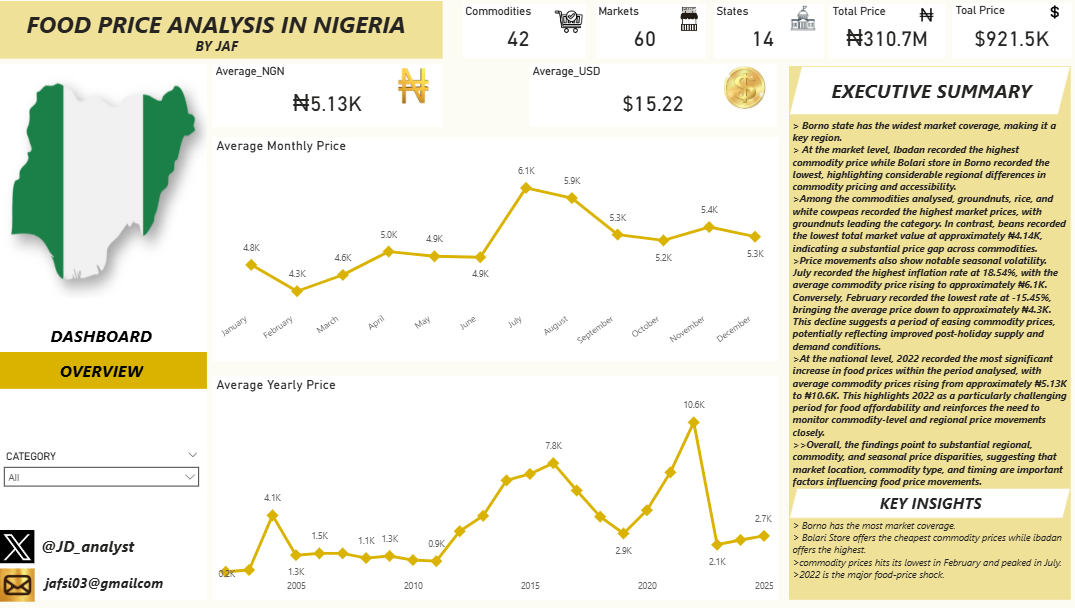

The page's visual inventory and layout, read from the dashboard file:
{"tool":"powerbi","page":{"name":"Overview","canvas":[1500,850],"ordinal":1},"visuals":[{"type":"shape","box":[0,96.4,292.2,742.5],"z":0},{"type":"card","title":"Average_NGN","fields":{"Values":["wfp_food_prices_nga (1).Avg_NGN"]},"box":[299.7,96.4,319.3,87.3],"z":1000},{"type":"card","title":"Average_USD","fields":{"Values":["wfp_food_prices_nga (1).Avg_USD"]},"box":[738,96.4,343.4,87.3],"z":2000},{"type":"slicer","fields":{"Values":["wfp_food_prices_nga (1).CATEGORY"]},"box":[0,625.7,292.1,74.8],"z":3000},{"type":"actionButton","box":[0,446.8,292.2,51.2],"z":4000},{"type":"actionButton","box":[0,495,292.2,51.2],"z":5000},{"type":"shape","box":[1097.9,99.4,390.1,739.5],"z":6000},{"type":"lineChart","title":"Average Monthly Price ","fields":{"Category":["wfp_food_prices_nga (1).Date.Variation.Date Hierarchy.Month"],"Y":["wfp_food_prices_nga (1).Avg_NGN"]},"box":[299.7,197.3,783.1,310.2],"z":7000},{"type":"shape","box":[1097.9,99.4,390.1,67.8],"z":8000},{"type":"textbox","box":[1134,109.9,322.3,49.7],"z":9000},{"type":"shape","box":[1.5,9,617.5,79.8],"z":10000},{"type":"textbox","box":[37.7,13.6,552.7,67.8],"z":11000},{"type":"textbox","box":[155.1,54.2,301.2,34.6],"z":12000},{"type":"lineChart","title":"Average Yearly Price ","fields":{"Y":["wfp_food_prices_nga (1).Avg_NGN"],"Category":["wfp_food_prices_nga (1).Date.Variation.Date Hierarchy.Year"]},"box":[299.7,528.6,783.1,310.2],"z":13000},{"type":"textbox","box":[1097.9,167.2,390.1,537.7],"z":14000},{"type":"shape","box":[1097.9,683.7,390.1,42.2],"z":15000},{"type":"textbox","box":[1143.1,685.2,301.2,40.7],"z":16000},{"type":"textbox","box":[1097.9,721.4,390.1,117.5],"z":17000},{"type":"card","title":"Commodities","fields":{"Values":["wfp_food_prices_nga (1).Commodity_count"]},"box":[646.1,13.2,170.2,75.2],"z":18000},{"type":"card","title":"Markets","fields":{"Values":["wfp_food_prices_nga (1).Market_count"]},"box":[831.1,13.2,151.7,75.2],"z":19000},{"type":"card","title":"States","fields":{"Values":["wfp_food_prices_nga (1).STATE_NO"]},"box":[993.4,13.2,151.7,75.2],"z":20000},{"type":"card","title":"Total Price","fields":{"Values":["Sum(wfp_food_prices_nga (1).NGN_PRICE)"]},"box":[1153,13.2,160.9,75.2],"z":21000},{"type":"card","title":"Toal Price","fields":{"Values":["Sum(wfp_food_prices_nga (1).USD_PRICE)"]},"box":[1323.8,13.1,165.8,75.8],"z":22000},{"type":"image","box":[770.4,15.8,43.5,44.9],"z":23000},{"type":"image","box":[939.3,13.2,42.2,40.9],"z":24000},{"type":"image","box":[1089.7,15.8,55.4,38.3],"z":25000},{"type":"image","box":[1265.3,18,45.7,20.8],"z":26000},{"type":"image","box":[1442.5,15.2,45.7,19.4],"z":27000},{"type":"image","box":[541.3,96.9,73.4,59.5],"z":28000},{"type":"image","box":[992.6,99.7,87.2,59.5],"z":29000},{"type":"image","box":[0,96.9,292.1,323.9],"z":30000},{"type":"image","box":[4.2,742,49.8,45.7],"z":31000},{"type":"image","box":[5.5,793.2,48.5,49.8],"z":32000},{"type":"textbox","box":[58.1,744.8,214.6,40.1],"z":33000},{"type":"textbox","box":[58.1,797.4,200.7,40.1],"z":34000}]}

Visuals, with their boxes in screenshot pixels (x1, y1, x2, y2), scaled from the page's 1500x850 canvas onto the 1075x608 screenshot:
shape: <box>0,69,209,600</box>
"Average_NGN" card: <box>215,69,444,131</box>
"Average_USD" card: <box>529,69,775,131</box>
slicer - wfp_food_prices_nga (1).CATEGORY: <box>0,448,209,501</box>
actionButton: <box>0,320,209,356</box>
actionButton: <box>0,354,209,391</box>
shape: <box>787,71,1066,600</box>
"Average Monthly Price " lineChart: <box>215,141,776,363</box>
shape: <box>787,71,1066,120</box>
textbox: <box>813,79,1044,114</box>
shape: <box>1,6,444,64</box>
textbox: <box>27,10,423,58</box>
textbox: <box>111,39,327,64</box>
"Average Yearly Price " lineChart: <box>215,378,776,600</box>
textbox: <box>787,120,1066,504</box>
shape: <box>787,489,1066,519</box>
textbox: <box>819,490,1035,519</box>
textbox: <box>787,516,1066,600</box>
"Commodities" card: <box>463,9,585,63</box>
"Markets" card: <box>596,9,704,63</box>
"States" card: <box>712,9,821,63</box>
"Total Price" card: <box>826,9,942,63</box>
"Toal Price" card: <box>949,9,1068,64</box>
image: <box>552,11,583,43</box>
image: <box>673,9,703,39</box>
image: <box>781,11,821,39</box>
image: <box>907,13,940,28</box>
image: <box>1034,11,1067,25</box>
image: <box>388,69,441,112</box>
image: <box>711,71,774,114</box>
image: <box>0,69,209,301</box>
image: <box>3,531,39,563</box>
image: <box>4,567,39,603</box>
textbox: <box>42,533,195,561</box>
textbox: <box>42,570,185,599</box>
